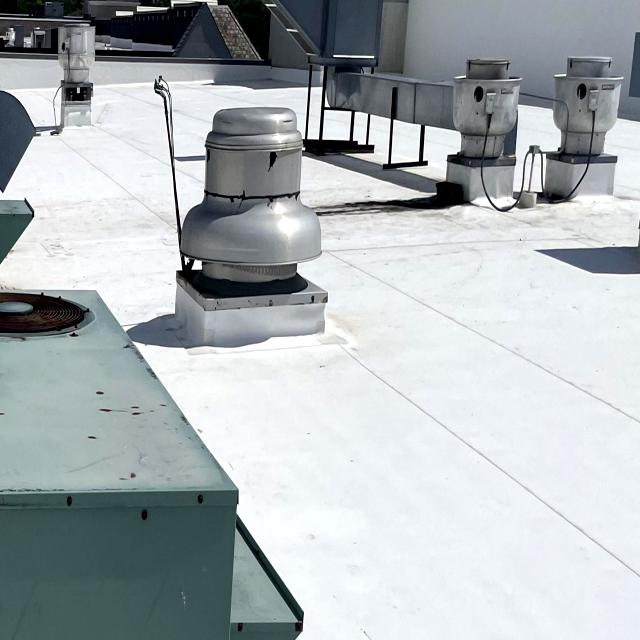GRAVITY-VENT: (173, 91, 331, 328), (546, 29, 626, 191), (447, 36, 524, 191), (58, 15, 100, 111)
RTU: (0, 282, 307, 640), (0, 118, 33, 284)
